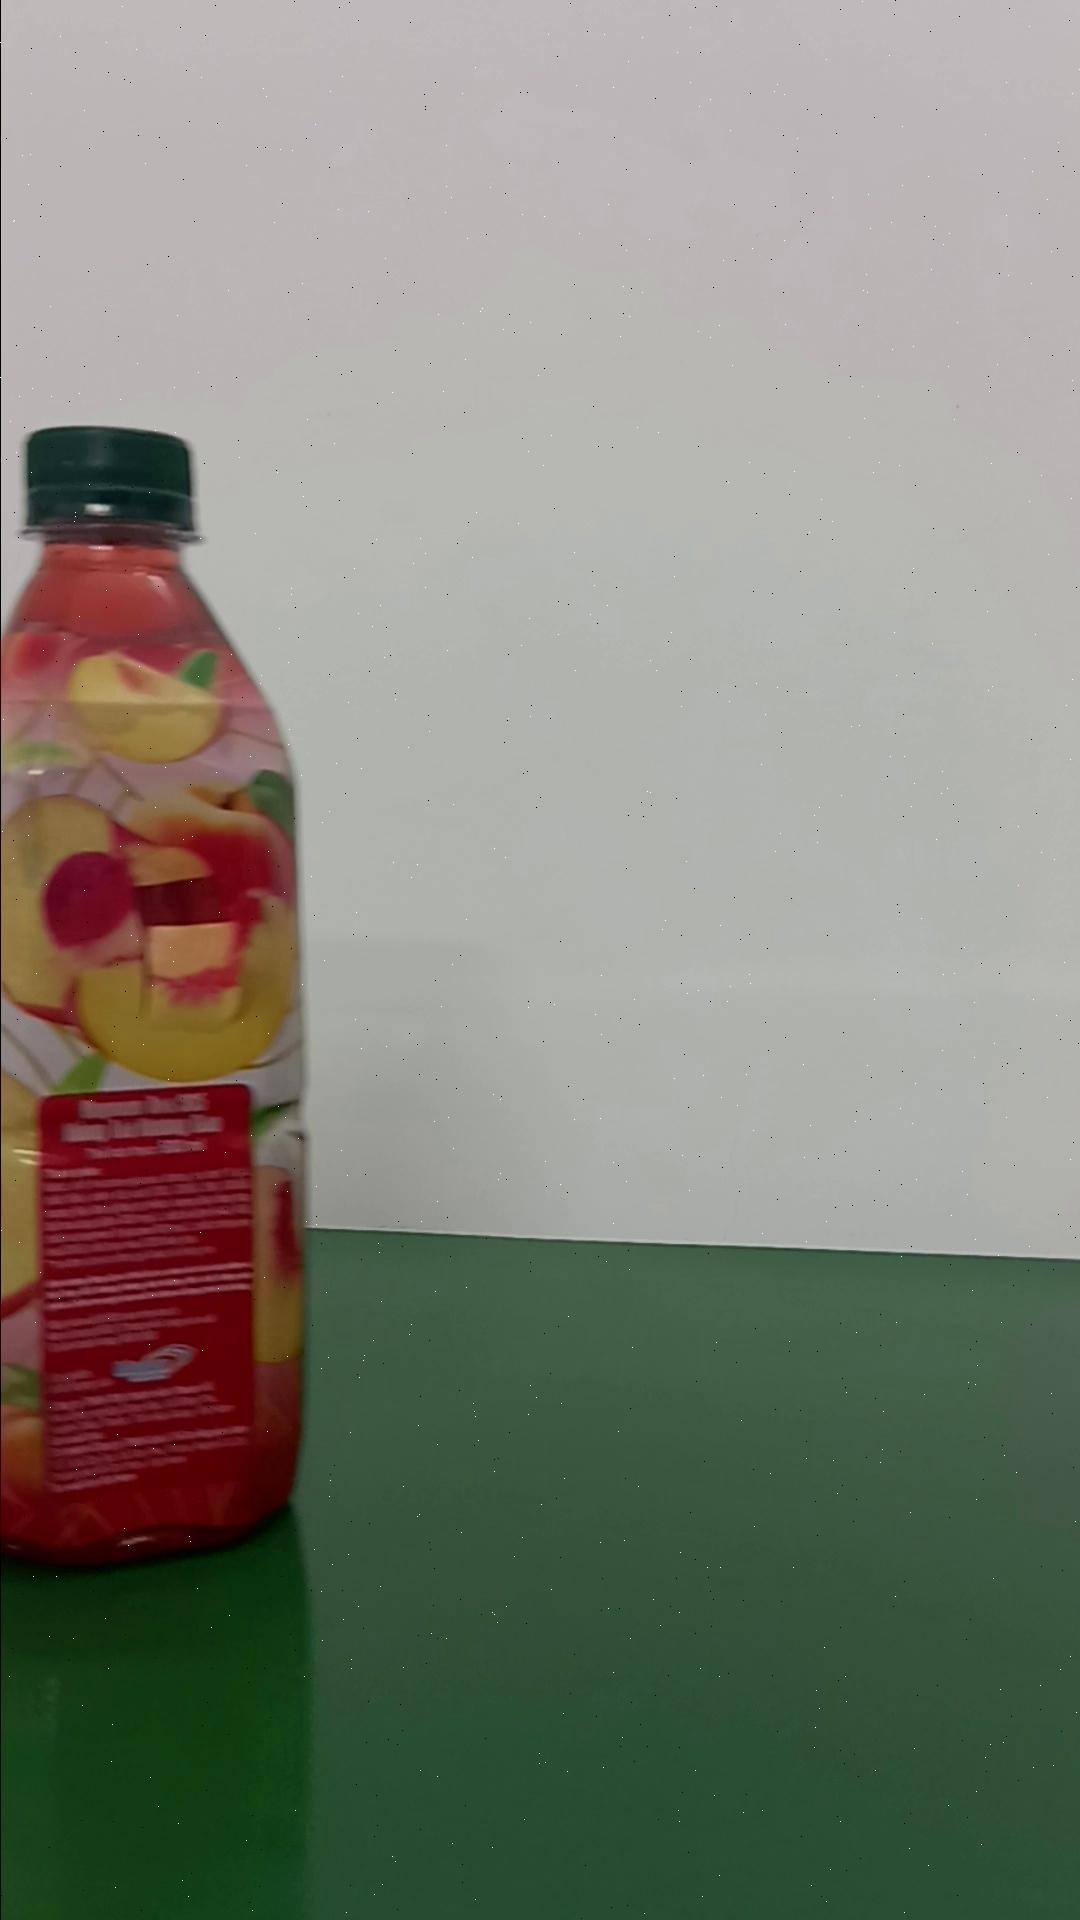loi rach va lap chai: (0, 418, 322, 1575)
